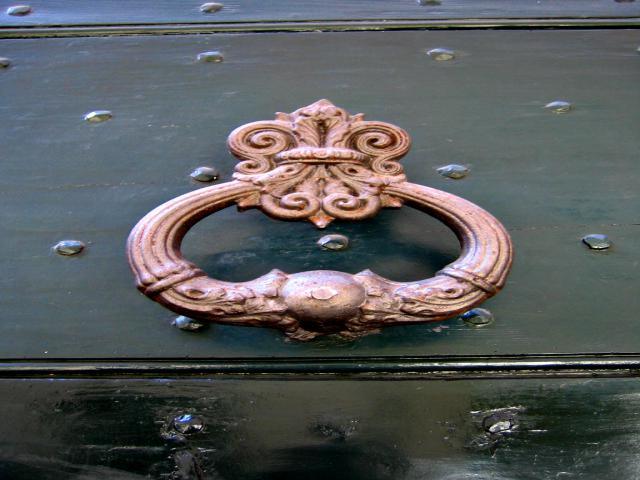Door-handle: (122, 96, 524, 348)
